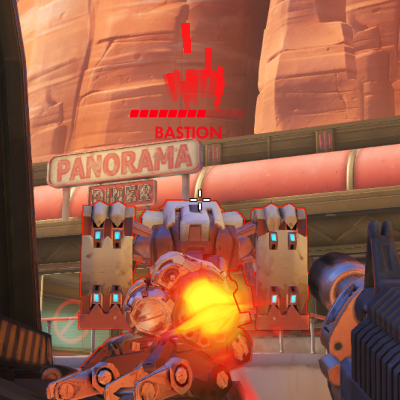hpbar: (129, 109, 246, 118)
